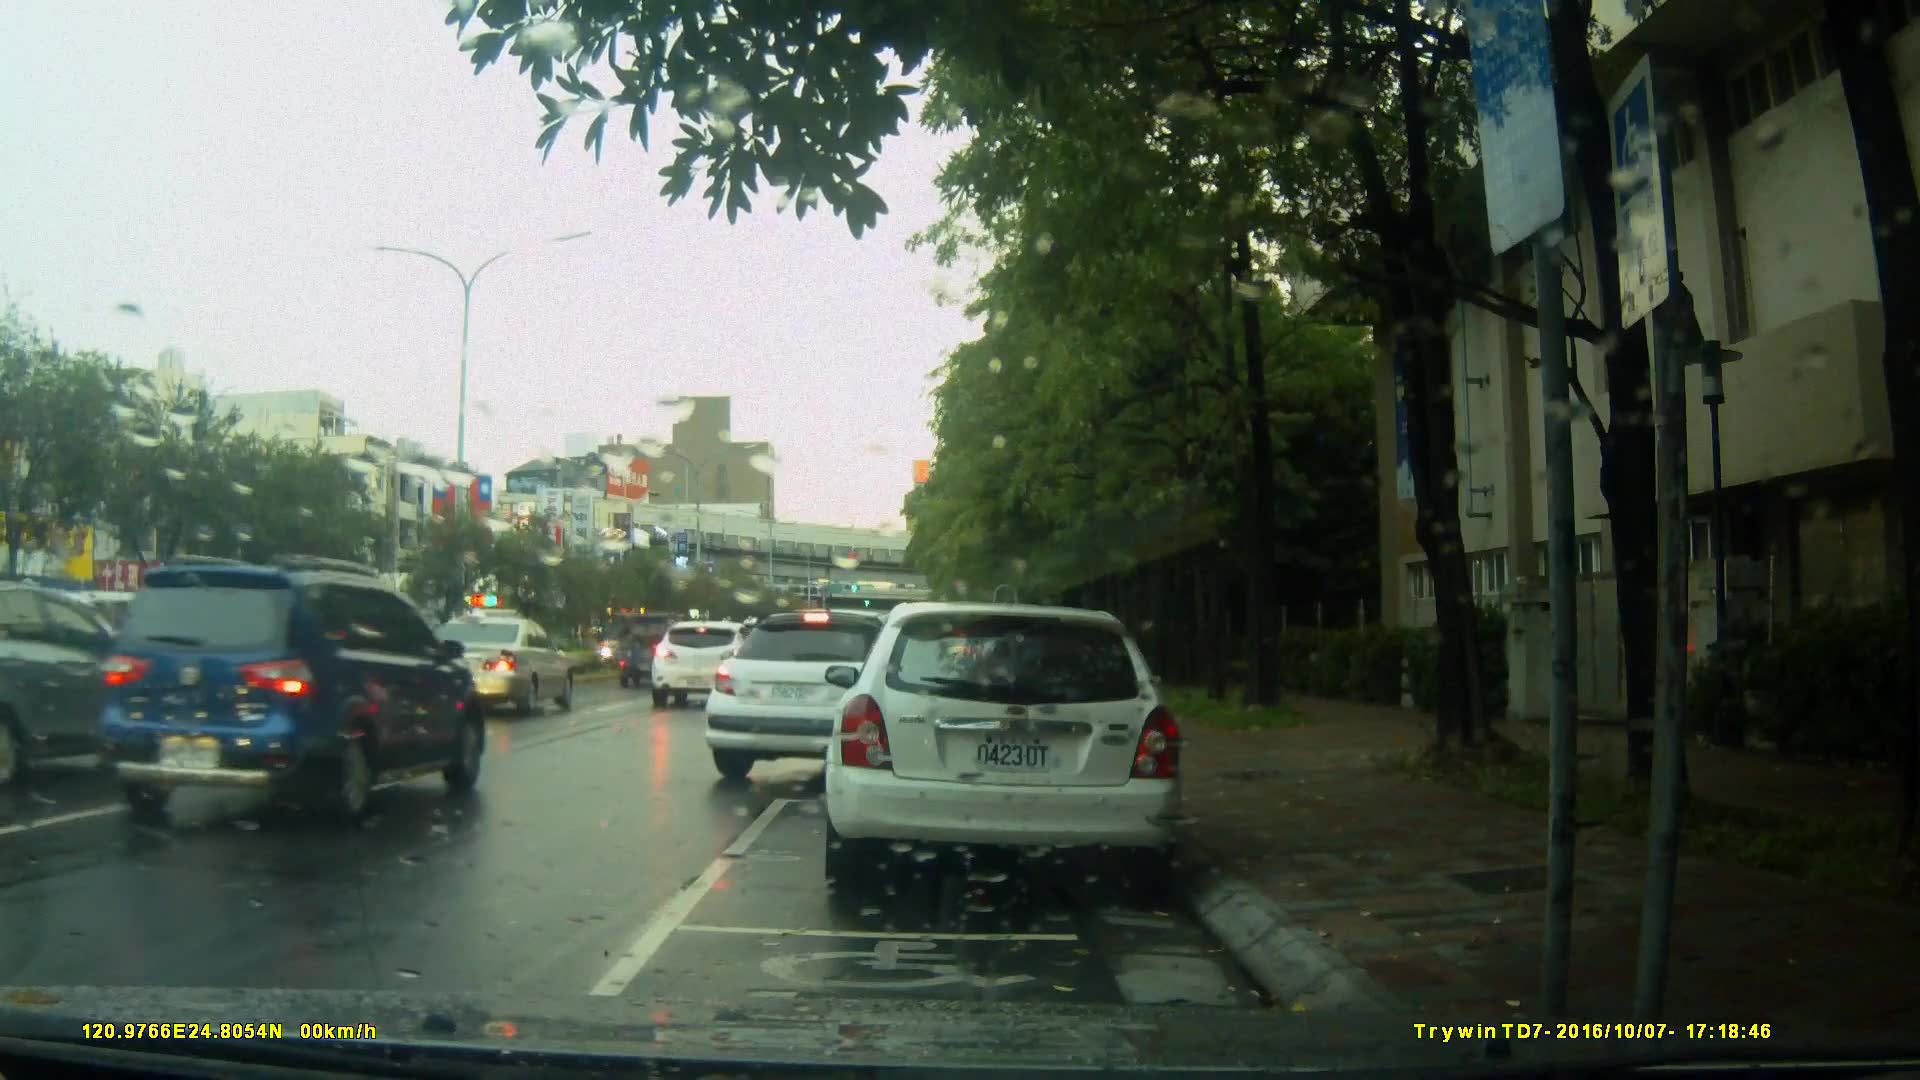vehicle: (82, 553, 487, 829), (820, 603, 1188, 898), (703, 608, 996, 793), (22, 584, 287, 746), (397, 613, 579, 719), (649, 618, 758, 712)
